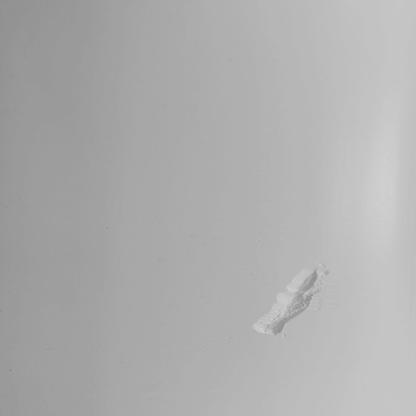sunshang: (254, 264, 330, 338)
